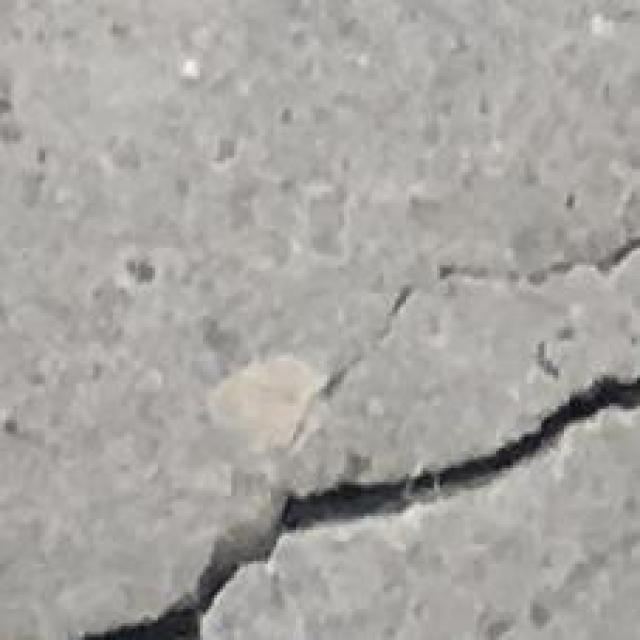diagonal crack: (87, 378, 640, 640), (248, 223, 638, 438)
